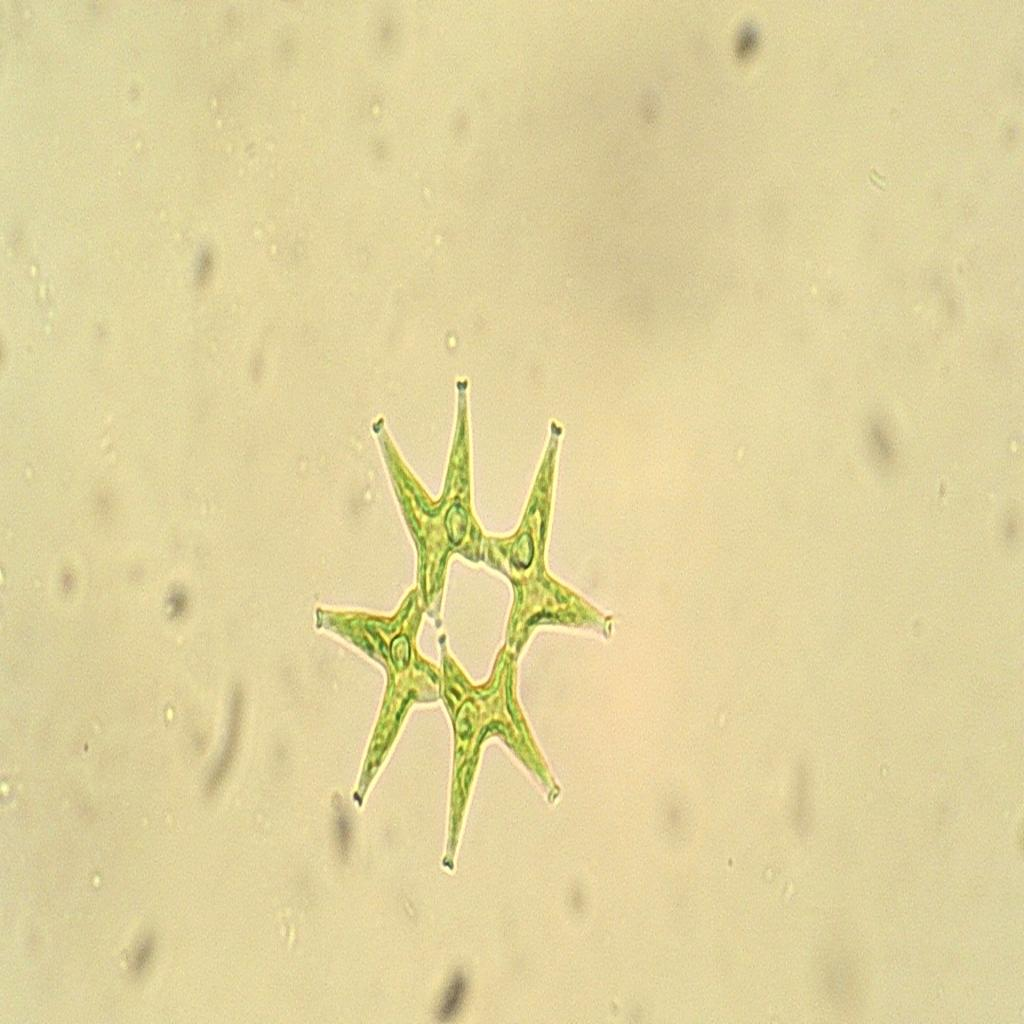Pediastrum_75FO: (306, 362, 631, 876)
